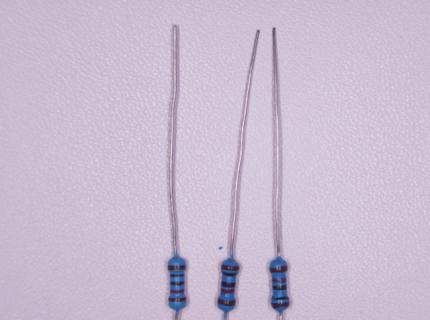Black band: (221, 281, 236, 288), (222, 271, 237, 276), (273, 285, 287, 290), (170, 282, 184, 286), (272, 297, 289, 300), (170, 274, 184, 277)
Brown band: (218, 298, 235, 306), (271, 302, 289, 309), (270, 266, 288, 273), (221, 265, 239, 271), (169, 297, 187, 302), (168, 265, 185, 270)
Red band: (272, 278, 286, 283), (221, 289, 235, 293), (170, 289, 184, 293)
